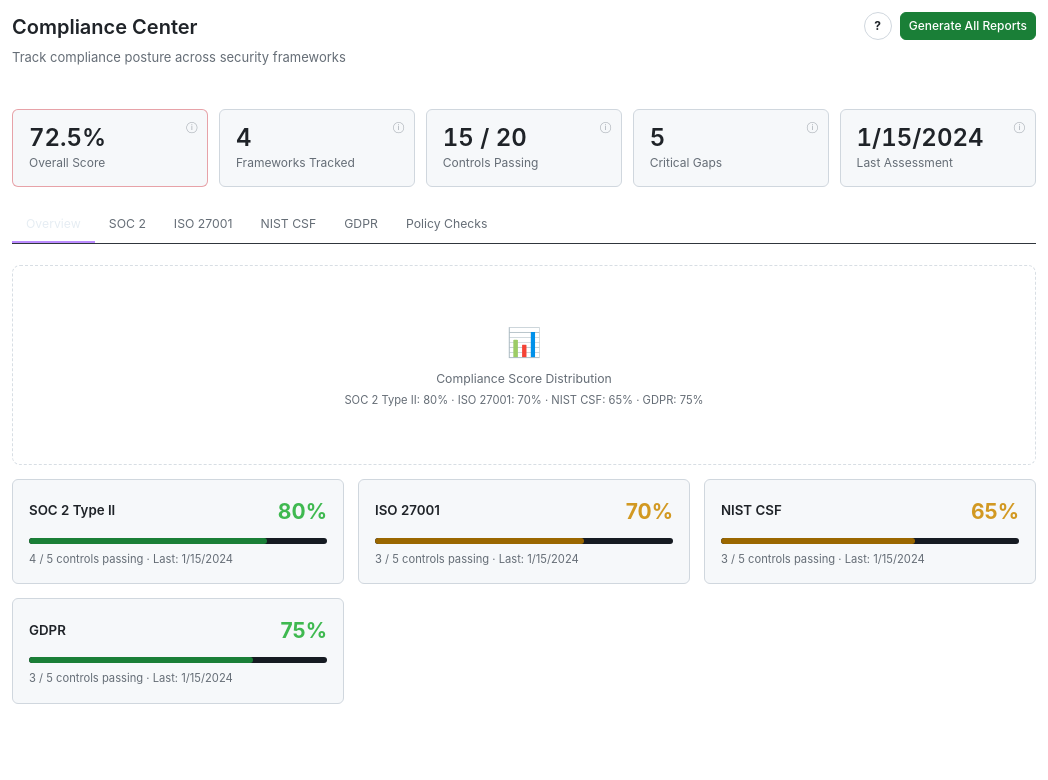
Test: CompliancePage › navigates to GDPR tab
Click the tab "GDPR". click: (361, 226)
box: [330,208,392,243]
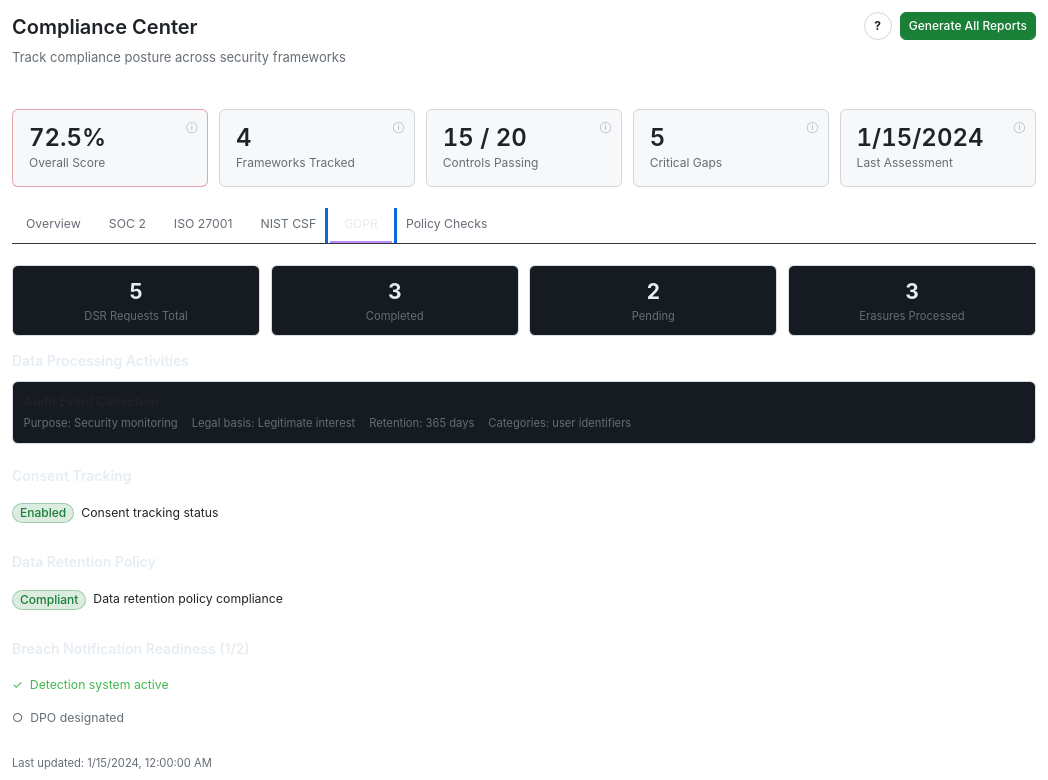
Result: the heading "Data Processing Activities" is shown at [12,352,189,369]
